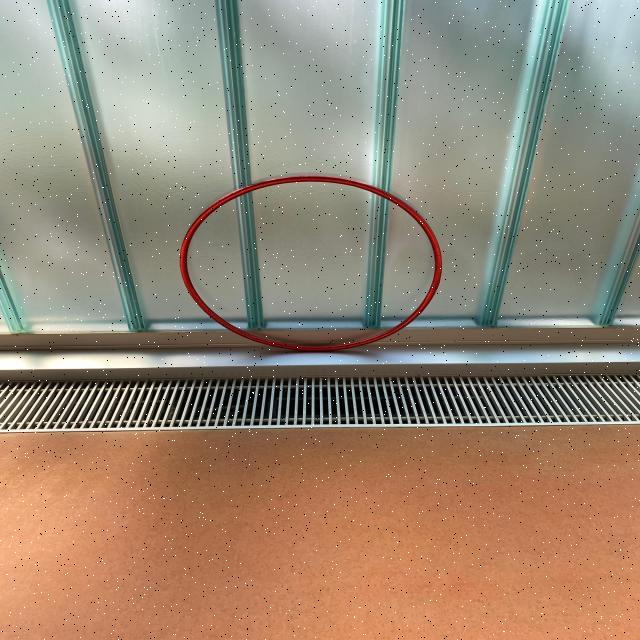Circle: (173, 172, 449, 354)
